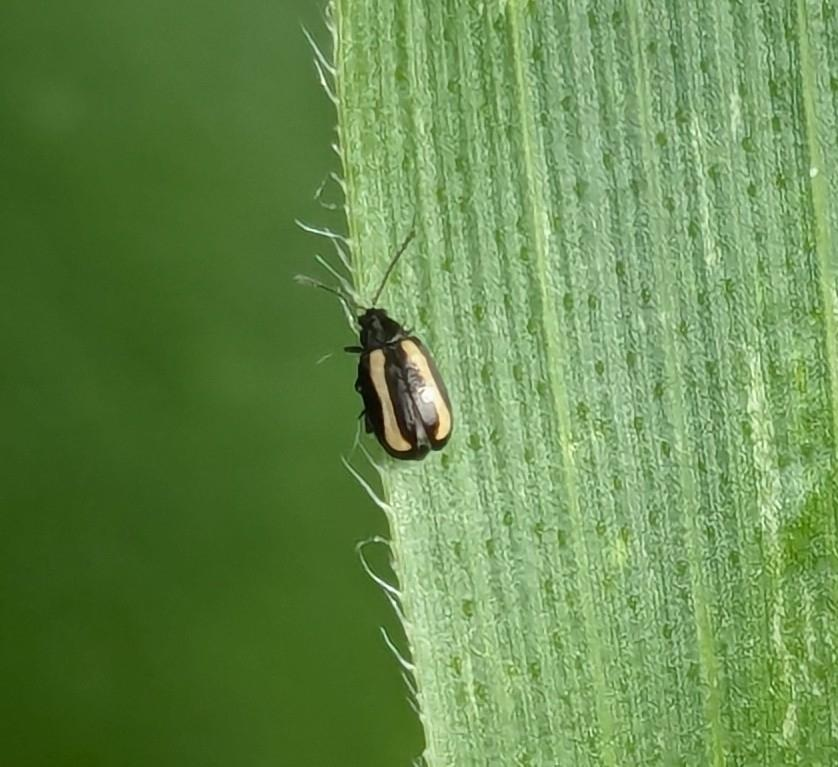flea_beetle: (277, 202, 510, 483)
